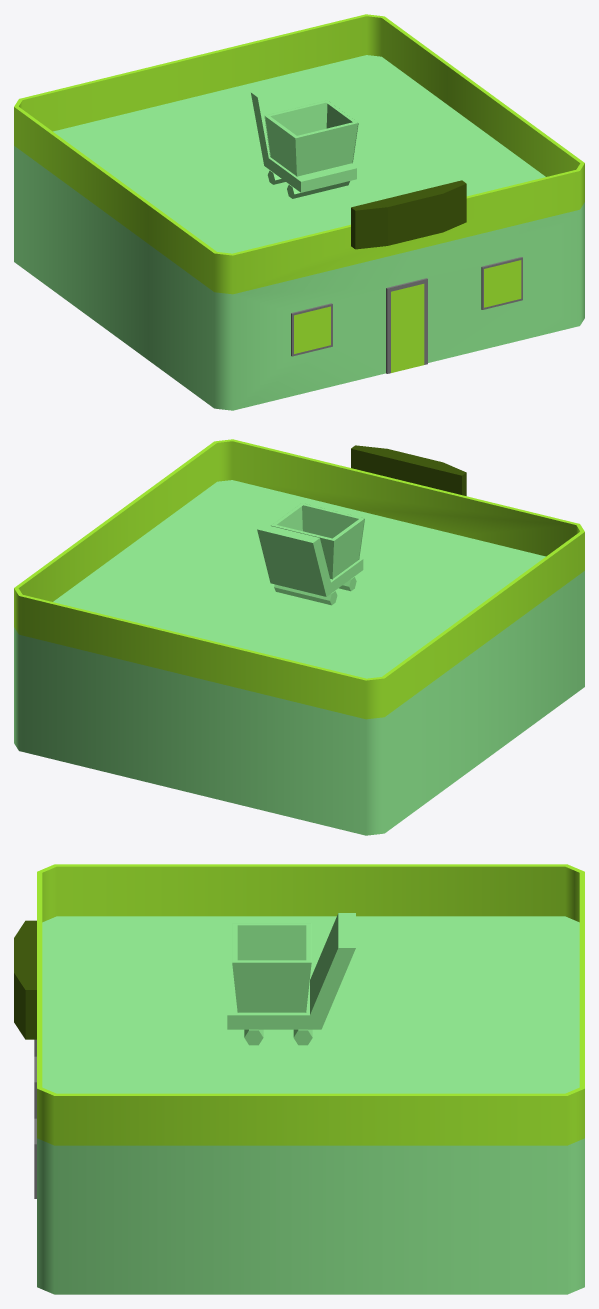
The model's file is Market.fbx.
The picture shows the model from 3 angles, top to bottom: view 1: azimuth 30°, elevation 25°; view 2: azimuth 150°, elevation 25°; view 3: azimuth 270°, elevation 25°; orthographic projection. The views are drawn at different scales.
Visible parts, largest first — view 1: Group1; view 2: Group1; view 3: Group1.
Part boxes in pixels (x1,y1,x2,y2): Group1: (14, 14, 584, 410); Group1: (14, 439, 584, 835); Group1: (14, 864, 584, 1294).
Size of the model in its own units: 10 by 4.96 by 10.42.
